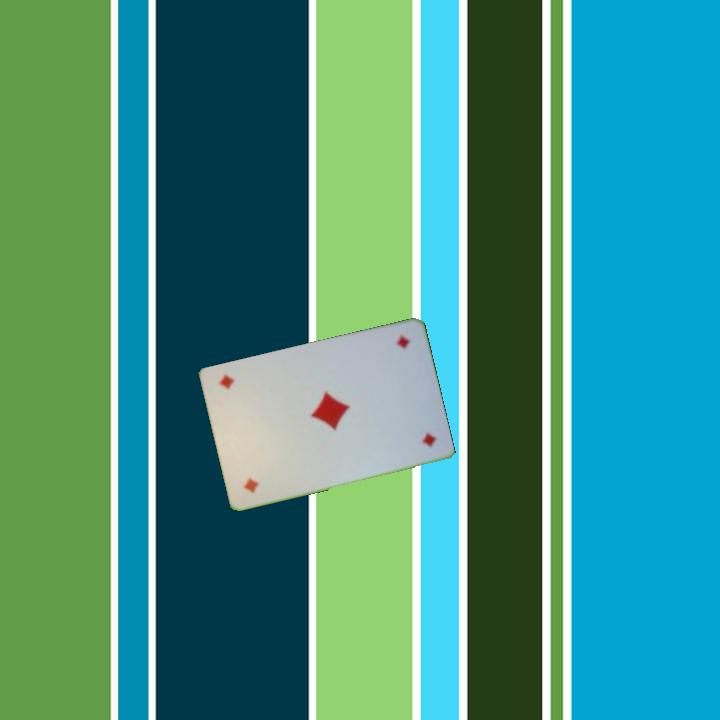d_a.png: (359, 328, 430, 405), (224, 423, 294, 500)
